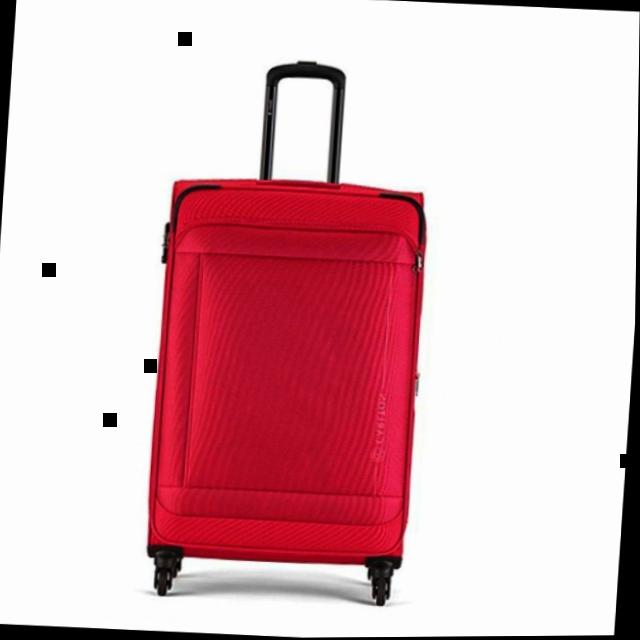luggage: (136, 167, 440, 614)
